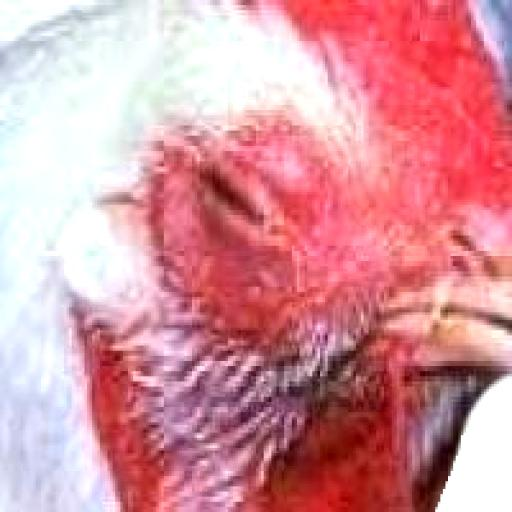disease: (169, 107, 322, 333)
